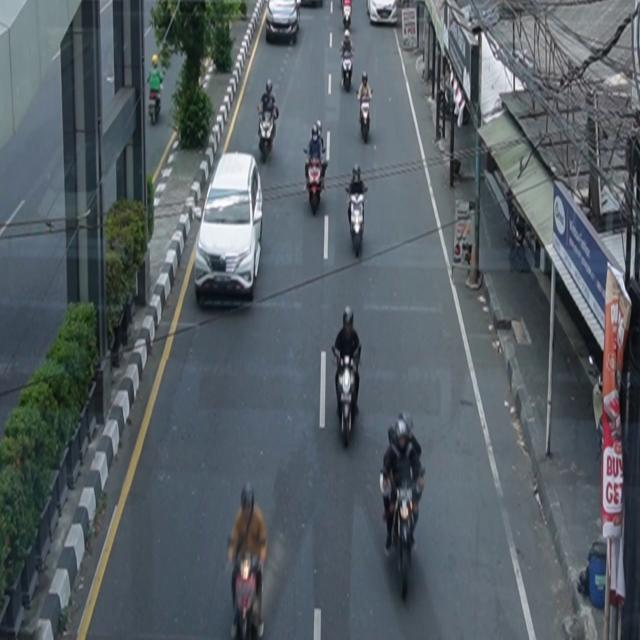car: (195, 152, 264, 306)
